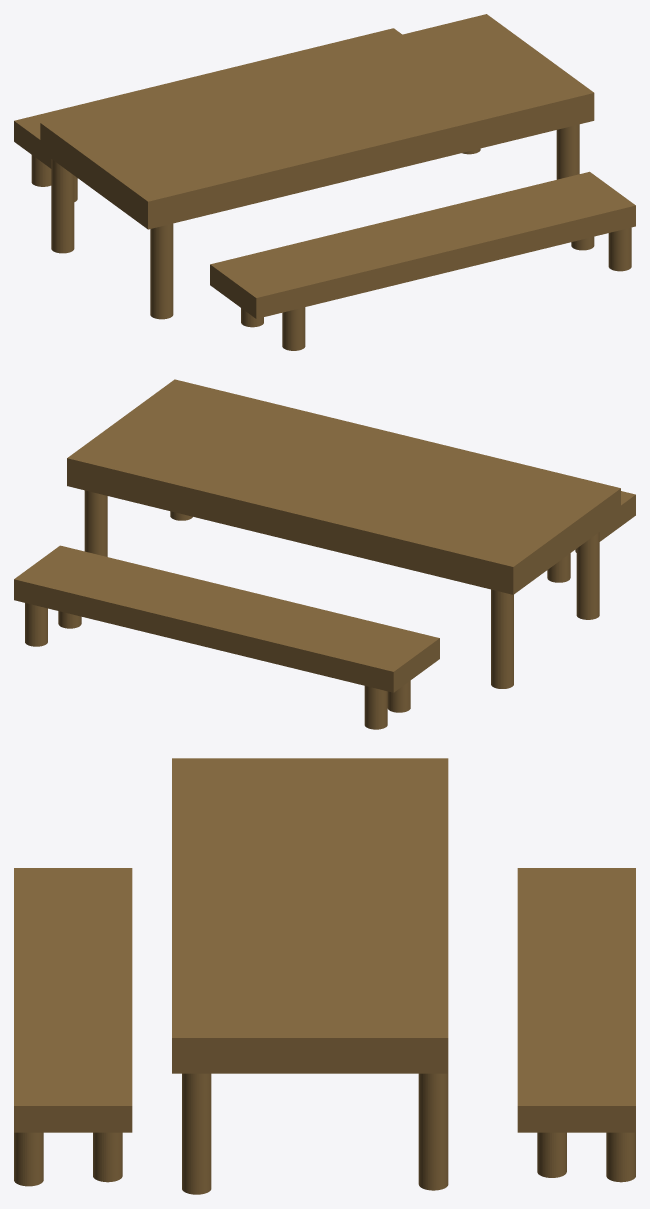
Rendered from Grand Kasi.glb.
The picture shows the model from 3 angles, top to bottom: view 1: azimuth 30°, elevation 25°; view 2: azimuth 150°, elevation 25°; view 3: azimuth 270°, elevation 25°; orthographic projection. The views are drawn at different scales.
Visible parts, largest first — view 1: Mesh_Mesh_head_geo.001_lambert2SG.001; view 2: Mesh_Mesh_head_geo.001_lambert2SG.001; view 3: Mesh_Mesh_head_geo.001_lambert2SG.001.
Boxes of the visible parts, x1,y1,x2,y2 form: Mesh_Mesh_head_geo.001_lambert2SG.001: [14, 14, 635, 350]; Mesh_Mesh_head_geo.001_lambert2SG.001: [14, 379, 635, 729]; Mesh_Mesh_head_geo.001_lambert2SG.001: [14, 758, 635, 1194].
Bounding box in the file's own units: 0.067 × 0.018 × 0.063.
